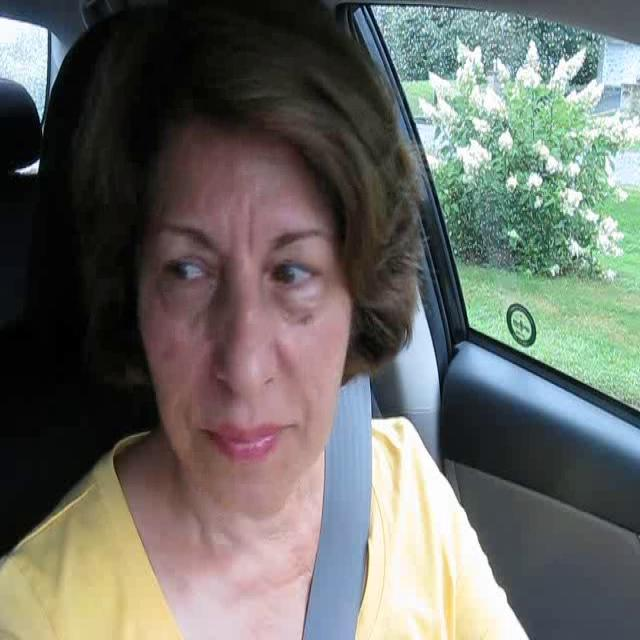close: (200, 417, 297, 463)
